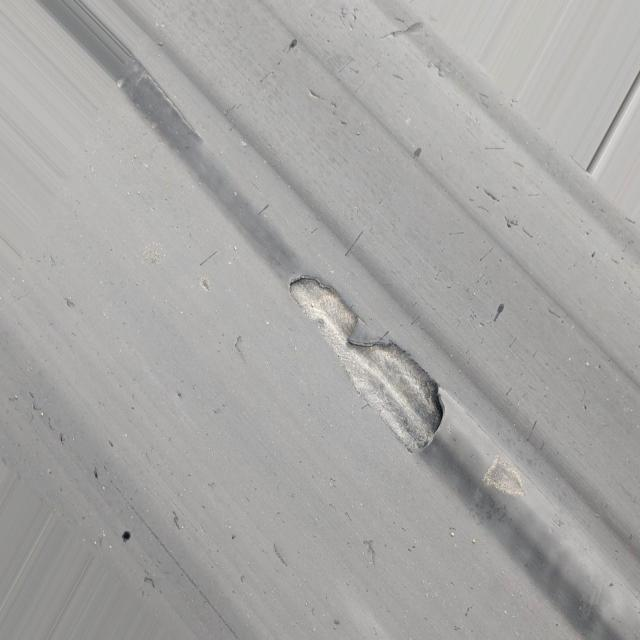Impact Damage: (280, 250, 463, 467)
